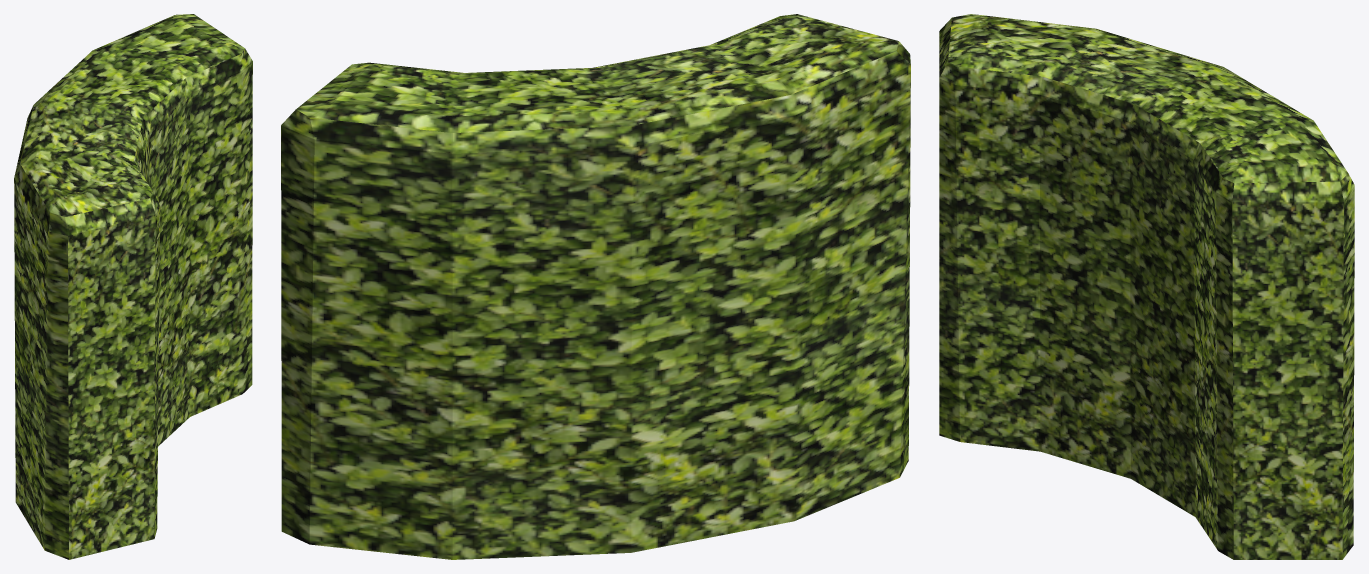
File: hedge_2mx6m_curved_5x5m.fbx
3 views of the same model, side by side, from view 1: azimuth 30°, elevation 25°; view 2: azimuth 150°, elevation 25°; view 3: azimuth 270°, elevation 25° (orthographic). The views are drawn at different scales.
Parts seen in each view (by area): view 1: Cube; view 2: Cube; view 3: Cube.
Boxes of the visible parts, box(x1,y1,x2,y2) form: Cube: box(14, 14, 252, 559); Cube: box(281, 14, 910, 559); Cube: box(939, 14, 1354, 559).
Size of the model in its own units: 598 by 600 by 596.
